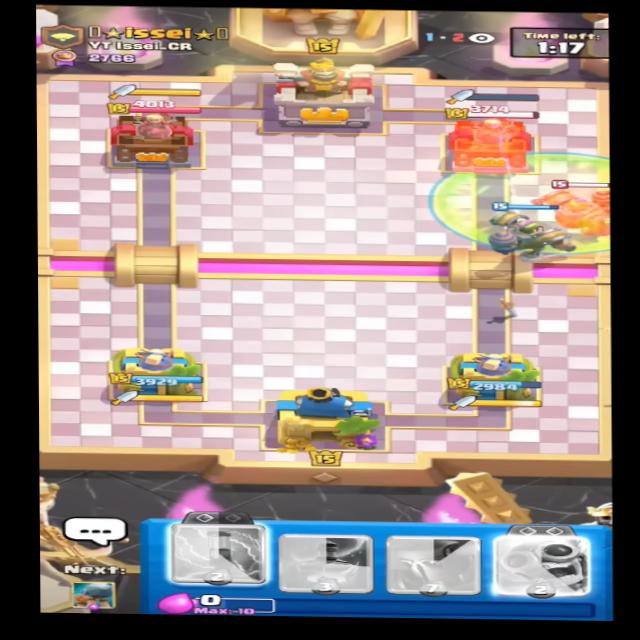Goblinmachine: (529, 177, 615, 237)
